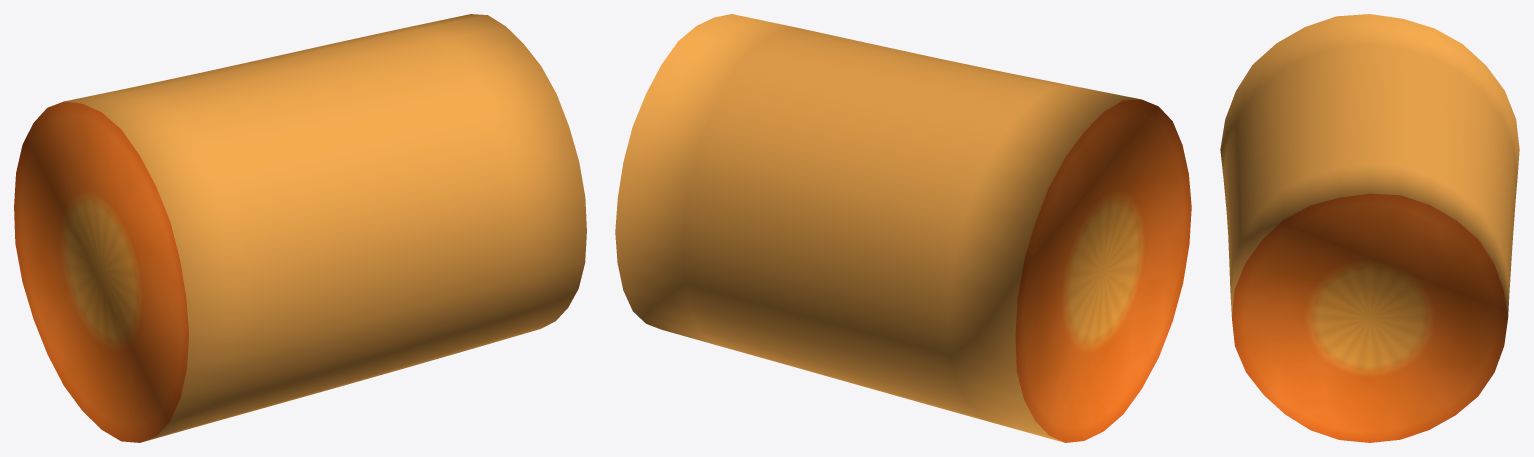
File: Carrot_Portion.fbx
The picture shows the model from 3 angles, left to right: view 1: azimuth 30°, elevation 25°; view 2: azimuth 150°, elevation 25°; view 3: azimuth 270°, elevation 25°; orthographic projection. The views are drawn at different scales.
Visible parts, largest first — view 1: Carrot_Portion; view 2: Carrot_Portion; view 3: Carrot_Portion.
Part boxes in pixels (x1,y1,x2,y2): Carrot_Portion: [14, 14, 586, 442]; Carrot_Portion: [615, 14, 1191, 442]; Carrot_Portion: [1220, 14, 1519, 442].
Bounding box in the file's own units: 0.04 × 0.03 × 0.03.
Materials: 2 (1 with a texture image).
